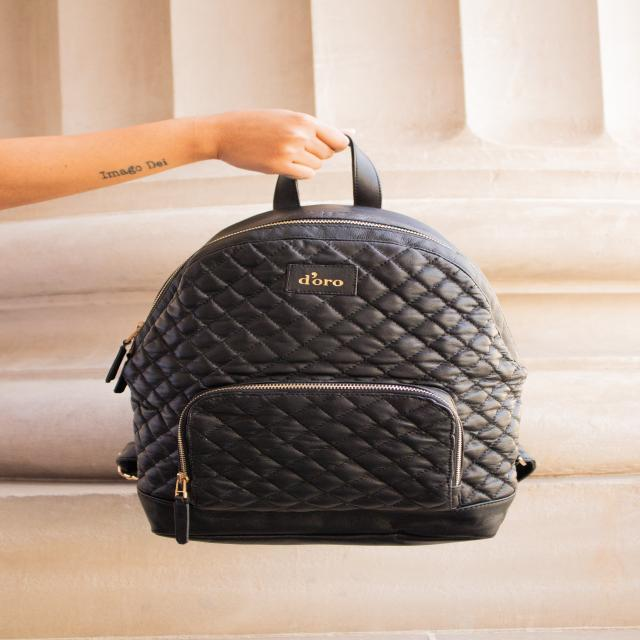backpack: (94, 134, 537, 544)
